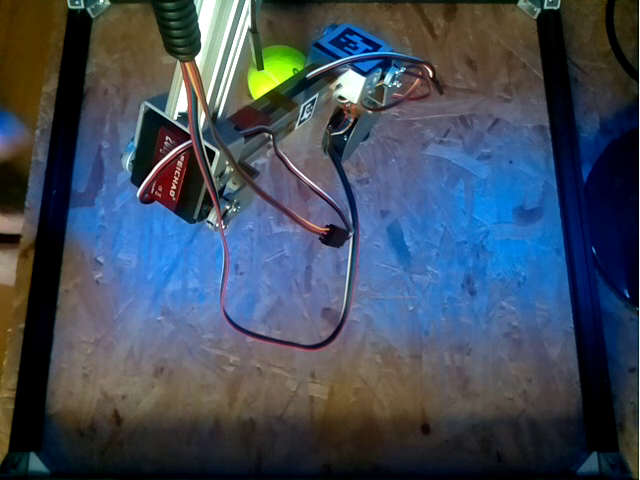tennis_ball: (248, 42, 302, 97)
